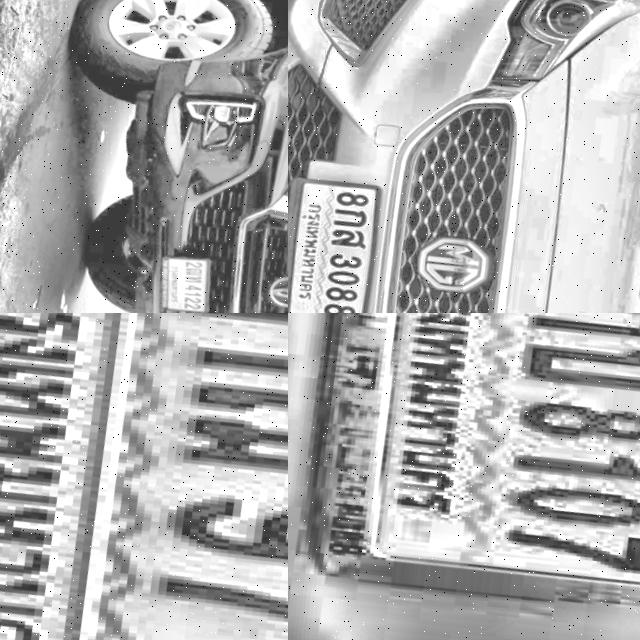license-plate: (288, 313, 640, 640), (0, 313, 288, 640), (288, 169, 391, 313), (133, 249, 213, 313)
